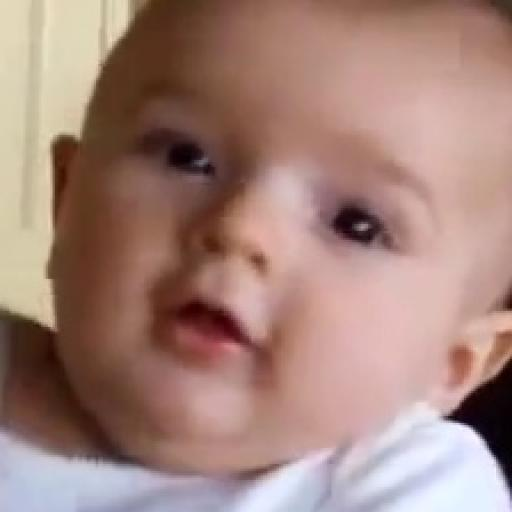Autism: (78, 3, 512, 469)
